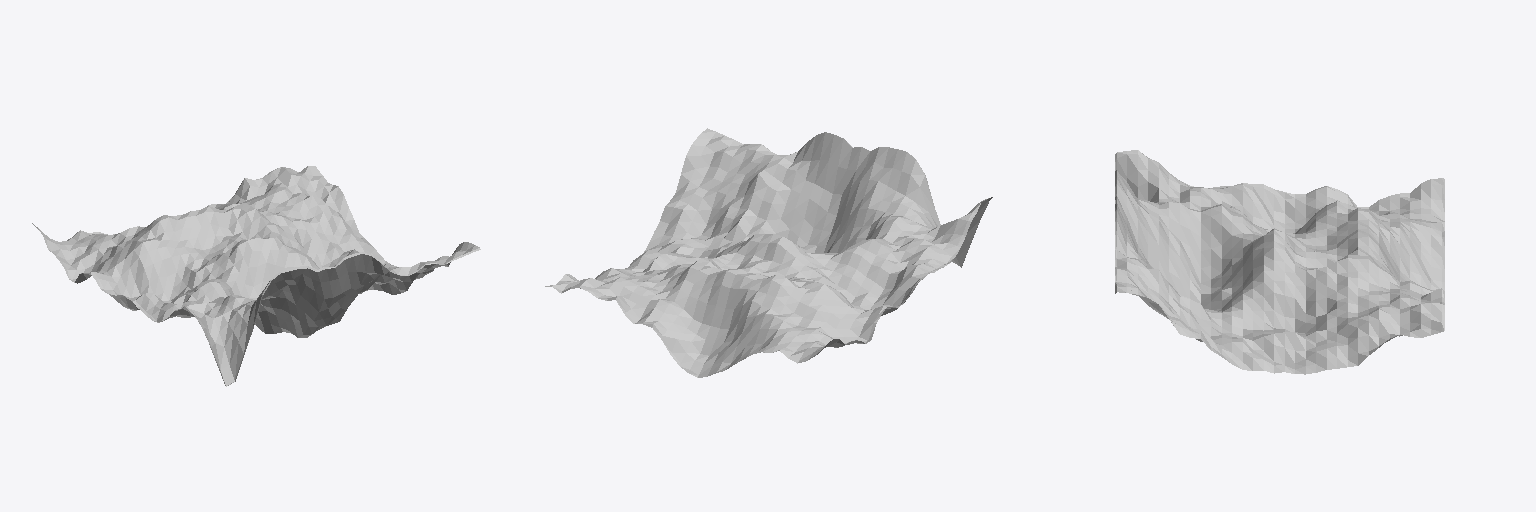
The model's file is terrain_-3_2.obj.
The picture shows the model from 3 angles: view 1: azimuth 30°, elevation 25°; view 2: azimuth 150°, elevation 25°; view 3: azimuth 270°, elevation 25°; orthographic projection.
Visible parts, largest first — view 1: terrain_-3_2_Plane.024; view 2: terrain_-3_2_Plane.024; view 3: terrain_-3_2_Plane.024.
Boxes of the visible parts, x1,y1,x2,y2 form: terrain_-3_2_Plane.024: [32, 166, 480, 386]; terrain_-3_2_Plane.024: [545, 128, 992, 377]; terrain_-3_2_Plane.024: [1115, 150, 1444, 374].
Size of the model in its own units: 32 by 12.6 by 32.